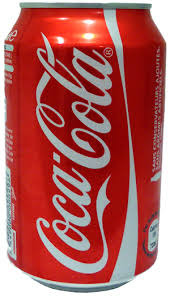coke: (3, 1, 158, 291)
